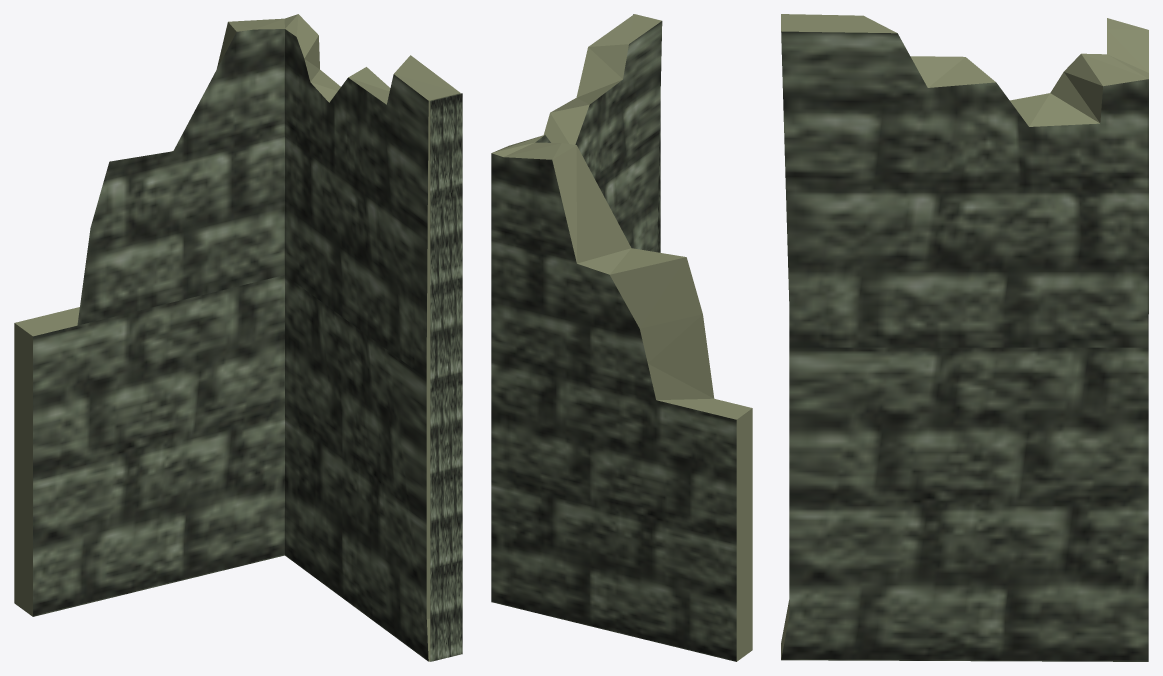
The model's file is ruins_grid_73_1.glb.
3 renders of one model, left to right at view 1: azimuth 30°, elevation 25°; view 2: azimuth 150°, elevation 25°; view 3: azimuth 270°, elevation 25°, orthographic. The views are drawn at different scales.
Parts seen in each view (by area): view 1: ruins_grid_73_1; view 2: ruins_grid_73_1; view 3: ruins_grid_73_1.
Boxes of the visible parts, box(x1,y1,x2,y2) form: ruins_grid_73_1: box(14, 14, 462, 661); ruins_grid_73_1: box(491, 14, 752, 661); ruins_grid_73_1: box(781, 14, 1148, 661).
Size of the model in its own units: 2.12 by 4 by 2.12.
Materials: 2 (1 with a texture image).
